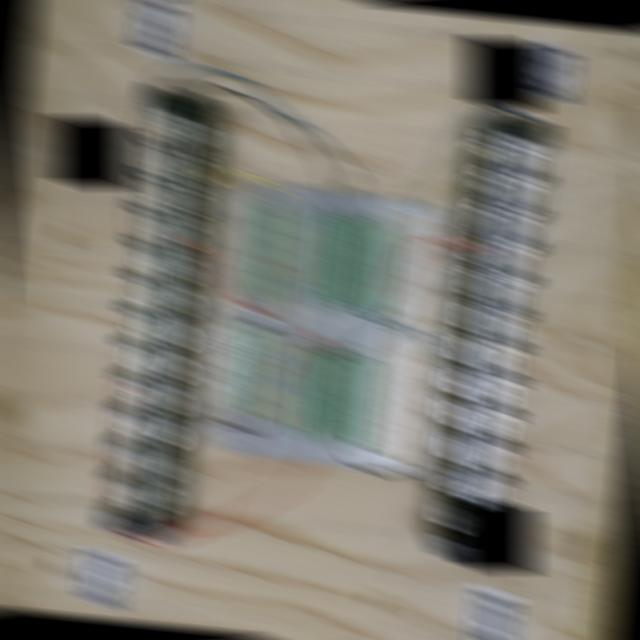Flathead_Block: (99, 87, 214, 541)
Phillips_Block: (434, 110, 554, 567)
Terminal_1: (232, 322, 273, 421), (246, 203, 285, 300)
Terminal_2: (314, 351, 353, 445), (302, 212, 341, 305), (357, 220, 396, 313), (288, 348, 327, 441), (330, 216, 369, 308)
